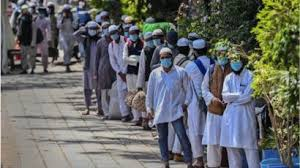mask: (229, 49, 246, 70), (216, 44, 232, 65), (160, 47, 174, 68), (152, 30, 164, 47), (127, 25, 139, 42), (86, 24, 98, 38), (144, 31, 154, 47), (109, 26, 120, 40)
